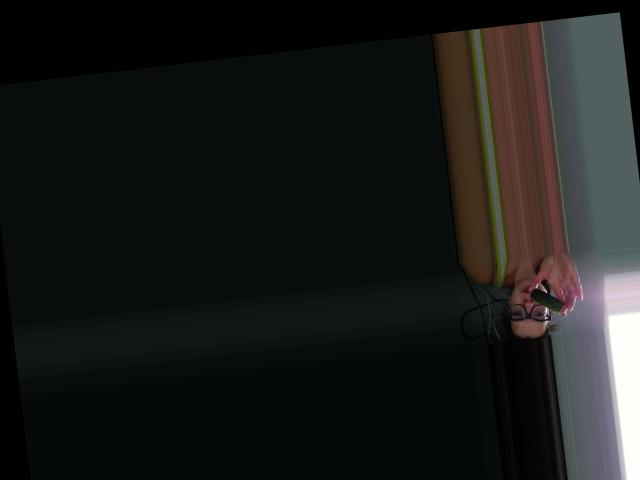cucumber: (529, 285, 564, 316)
